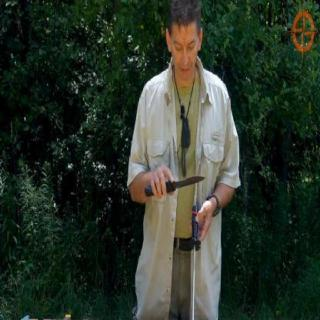knife: (144, 162, 207, 198)
